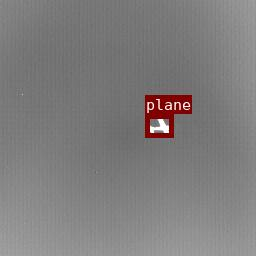plane: (145, 114, 173, 137)
